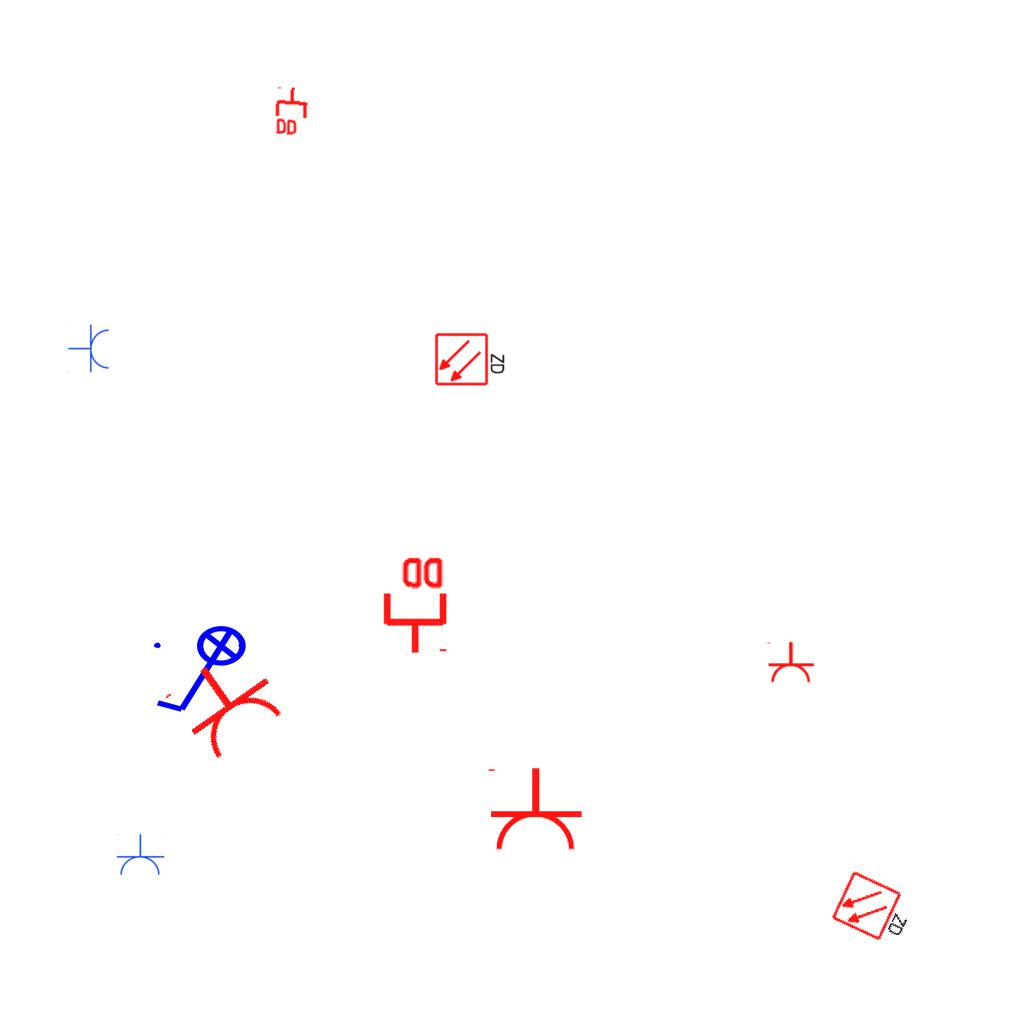Ausschalter_beleuchtet: (148, 624, 260, 720)
Datenanschluss_zweifach: (379, 553, 448, 656), (273, 84, 311, 139)
Schukosteckdose_einfach: (159, 639, 292, 769), (484, 766, 584, 853), (115, 834, 165, 877), (765, 641, 815, 684), (68, 324, 111, 374)
ZD_Melder_in_Zwischendecke_mit_Revisionsoeffnung_mind_40_x_40_cm: (829, 867, 922, 951), (434, 330, 508, 387)
